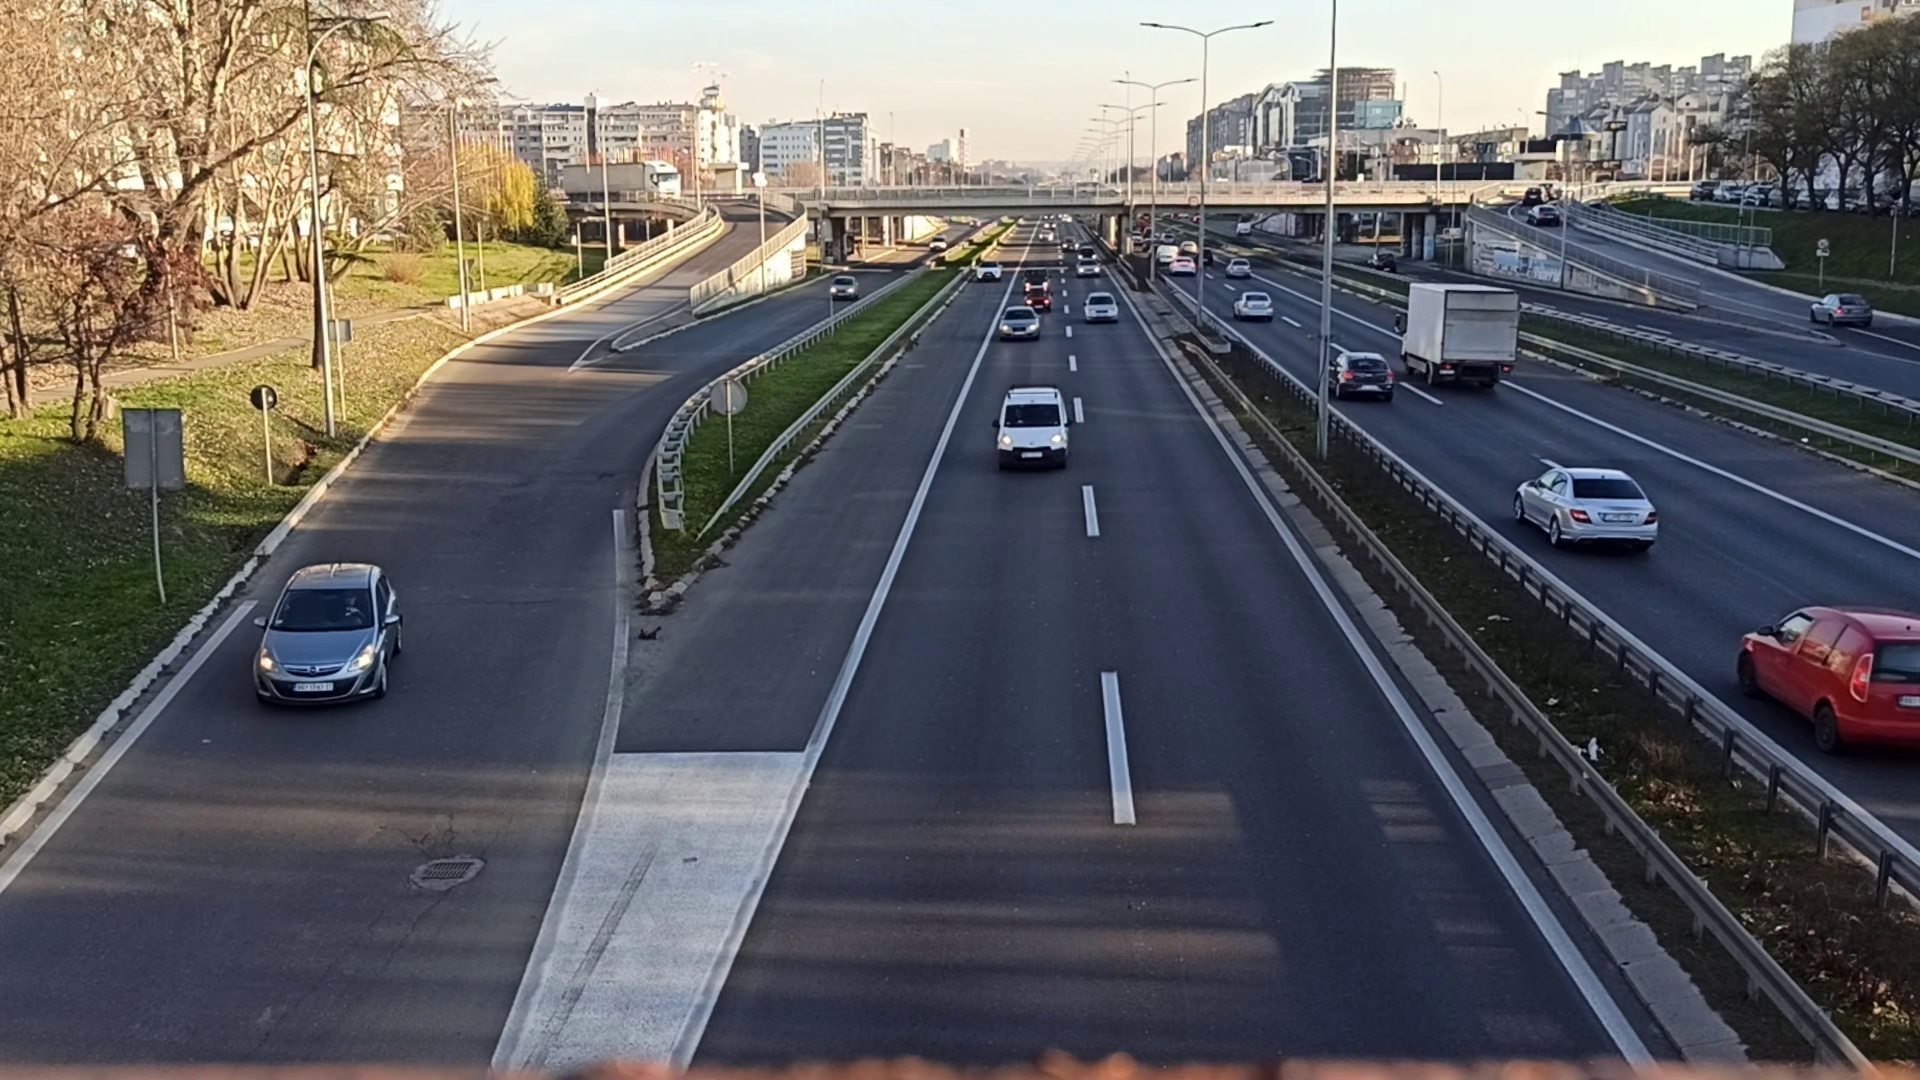car: (1735, 603, 1920, 756), (252, 556, 405, 705), (1516, 468, 1659, 560), (1323, 349, 1394, 400), (1000, 305, 1040, 345), (1084, 293, 1116, 320)
truck: (1393, 280, 1519, 397)
van: (996, 384, 1069, 465)
